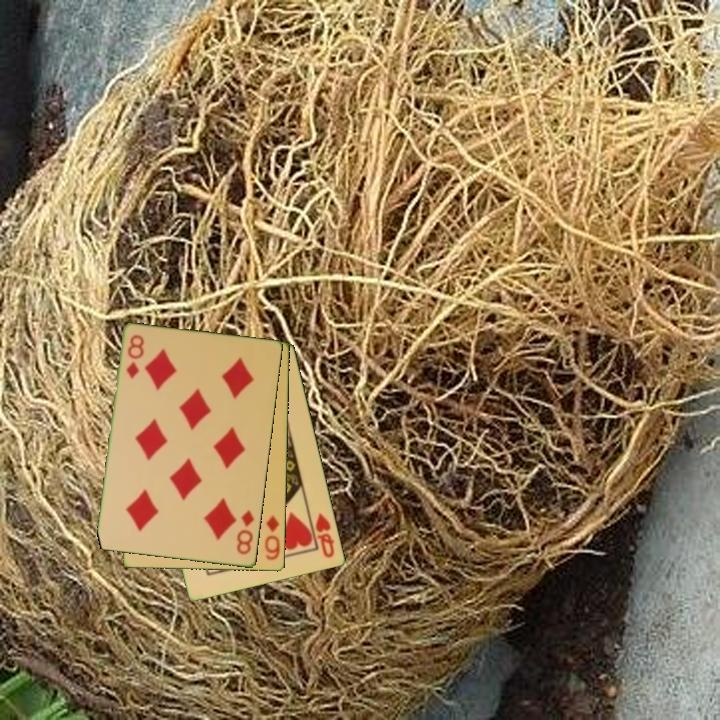6d: (262, 513, 283, 563)
8d: (233, 506, 257, 558), (123, 331, 147, 382)
Qh: (307, 509, 338, 561)
